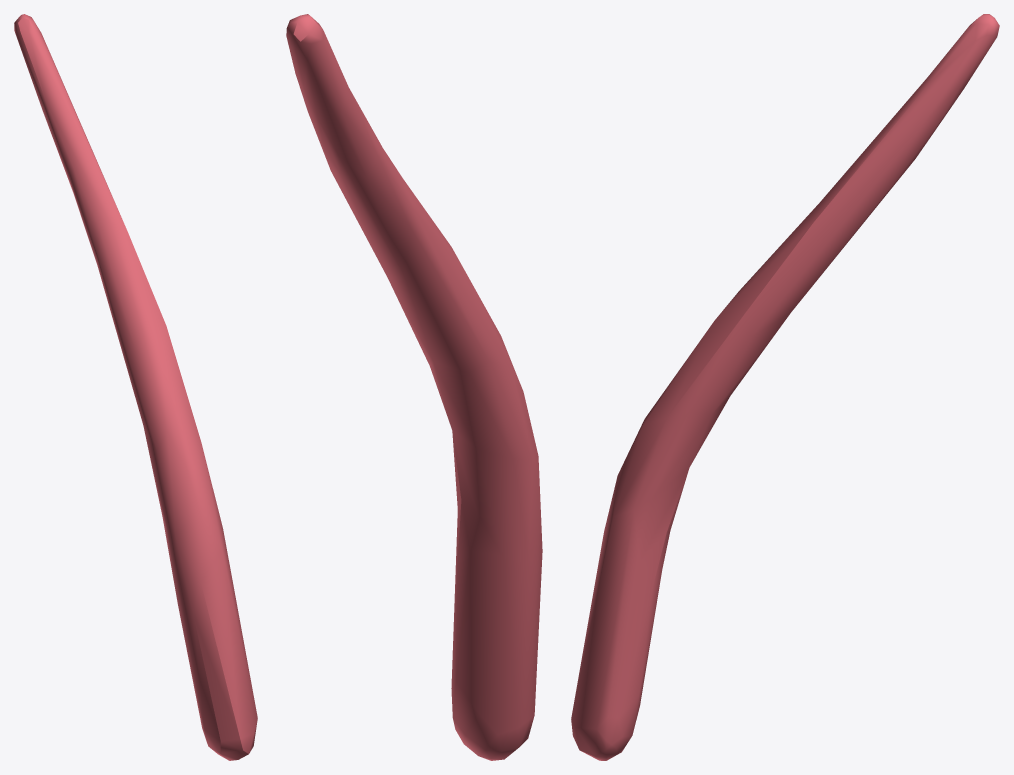
Rendered from fma8663_fj3070.glb.
3 views of the same model, side by side, from view 1: azimuth 30°, elevation 25°; view 2: azimuth 150°, elevation 25°; view 3: azimuth 270°, elevation 25° (orthographic). The views are drawn at different scales.
Parts seen in each view (by area): view 1: FMA8663_FJ3070; view 2: FMA8663_FJ3070; view 3: FMA8663_FJ3070.
Part boxes in pixels (left/top/right/bottom): FMA8663_FJ3070: left=14, top=14, right=257, bottom=760; FMA8663_FJ3070: left=286, top=14, right=542, bottom=760; FMA8663_FJ3070: left=571, top=14, right=999, bottom=760.
Bounding box in the file's own units: 0.00728 × 0.058 × 0.0313.
